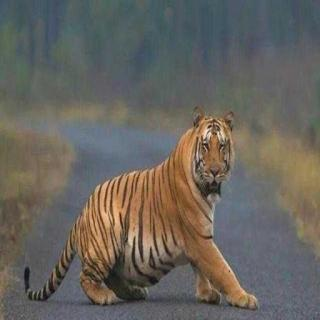Tiger: (32, 102, 258, 320)
